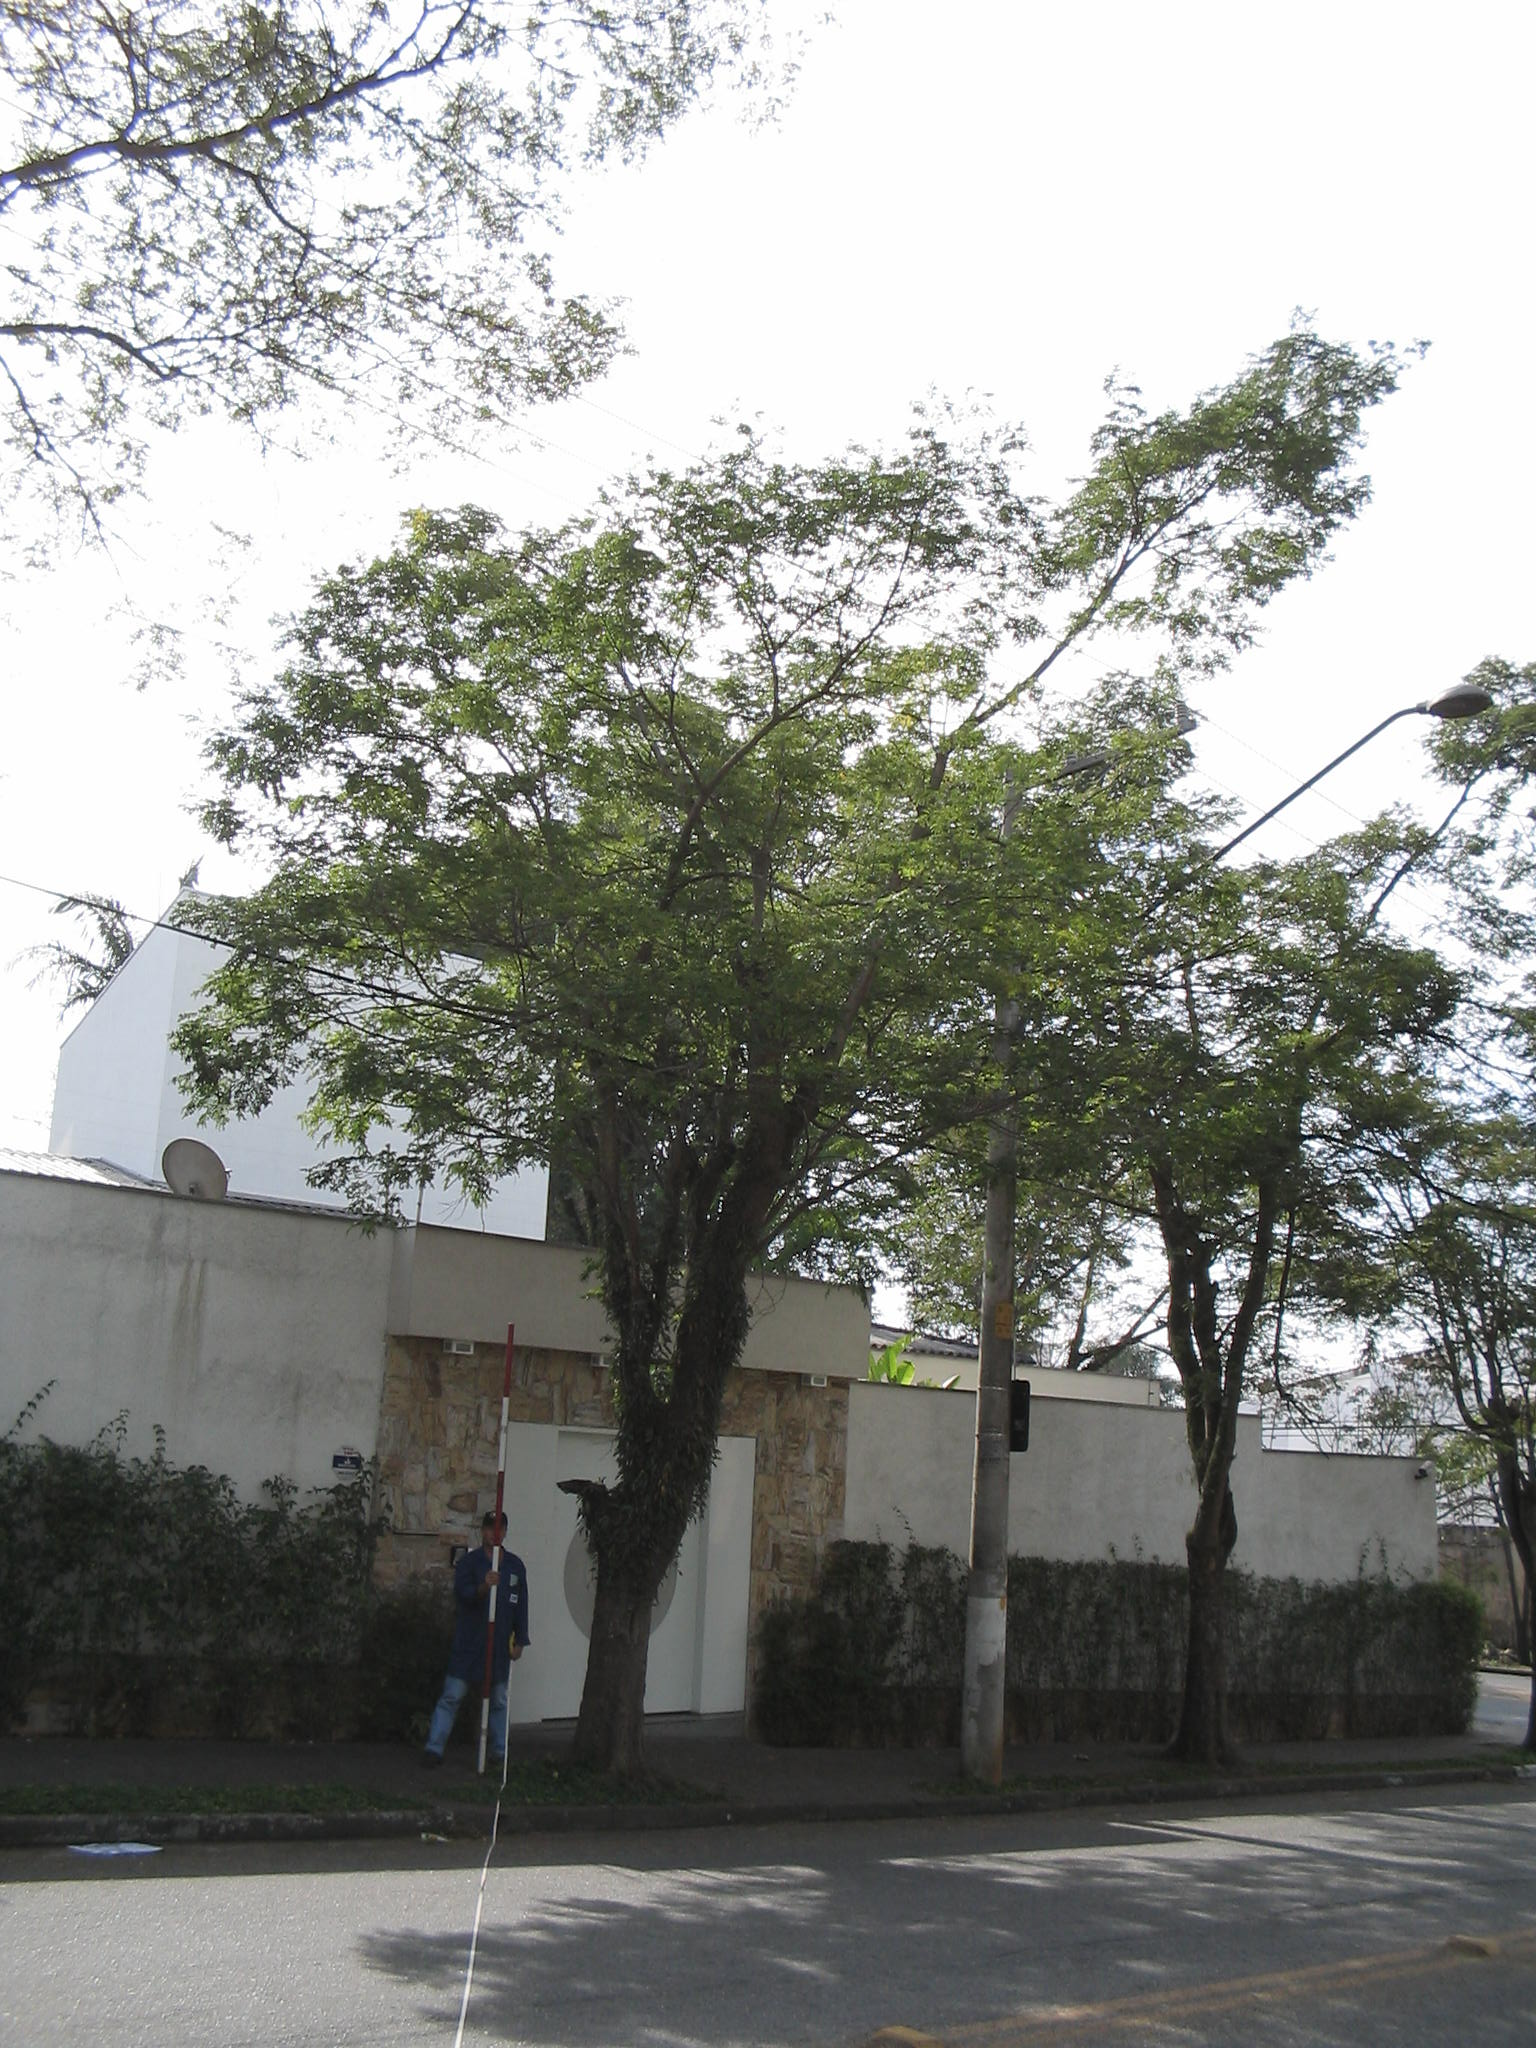crown: (181, 332, 1425, 1229)
stem: (552, 1426, 729, 1780), (1146, 1524, 1279, 1755)
stick: (463, 1321, 534, 1775)
tree: (174, 324, 1430, 1784), (1057, 826, 1475, 1763)
